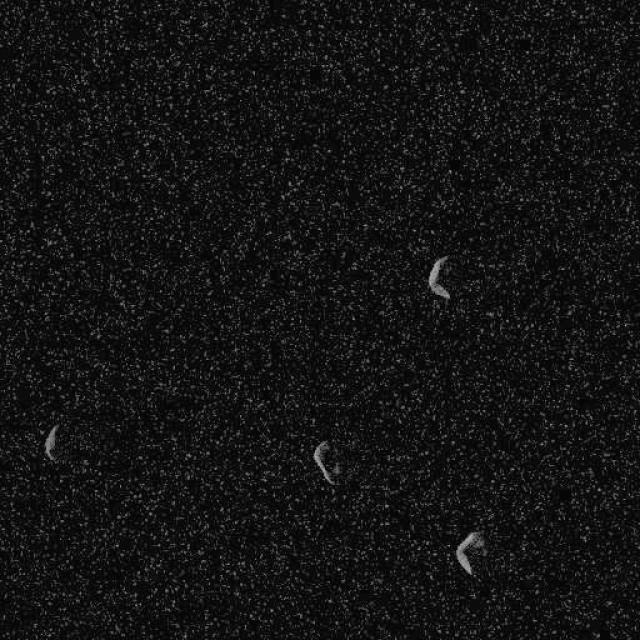D2: (455, 530, 486, 578), (313, 439, 342, 486), (426, 254, 452, 300), (42, 422, 58, 462)
